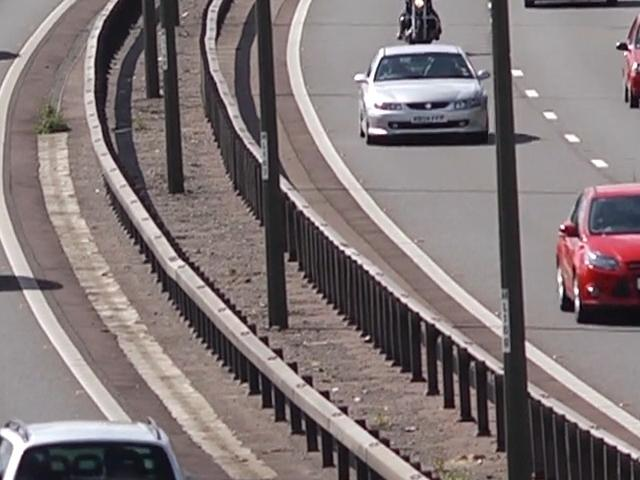car: (357, 45, 497, 147), (553, 176, 640, 324), (0, 422, 211, 480), (618, 10, 640, 115)
motorcycle: (399, 0, 441, 58)
